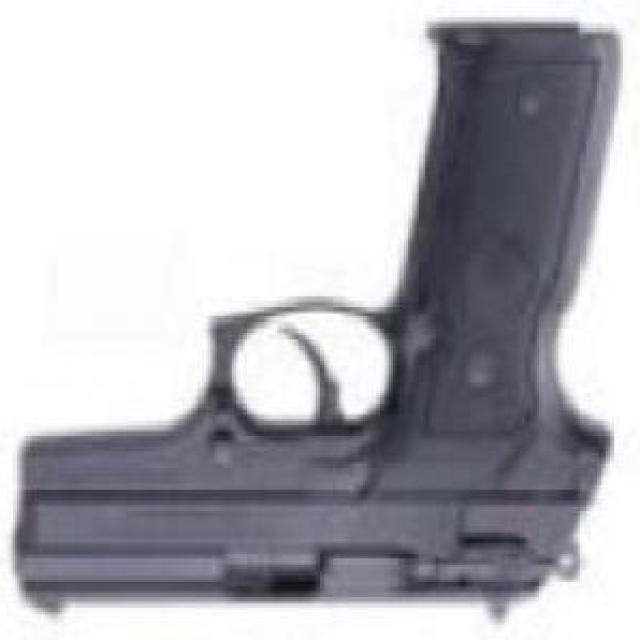pistol: (14, 21, 623, 623)
